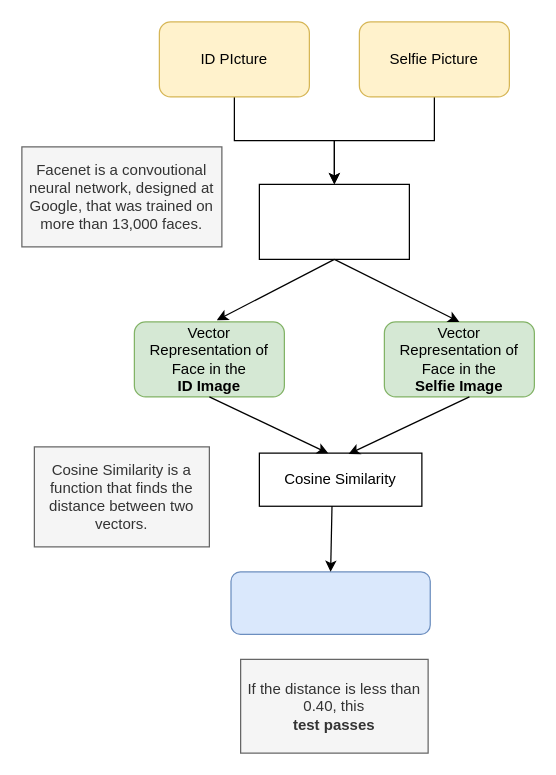
Some shapes in this 556 by 775 pixel diagram are drawn without their labels. The shapes that lost their labels are listed below. From the top down, each one's centre as x and y in pixels, then its label:
the point at 333,221: Facenet Model
the point at 330,602: Distance between these two vectors
